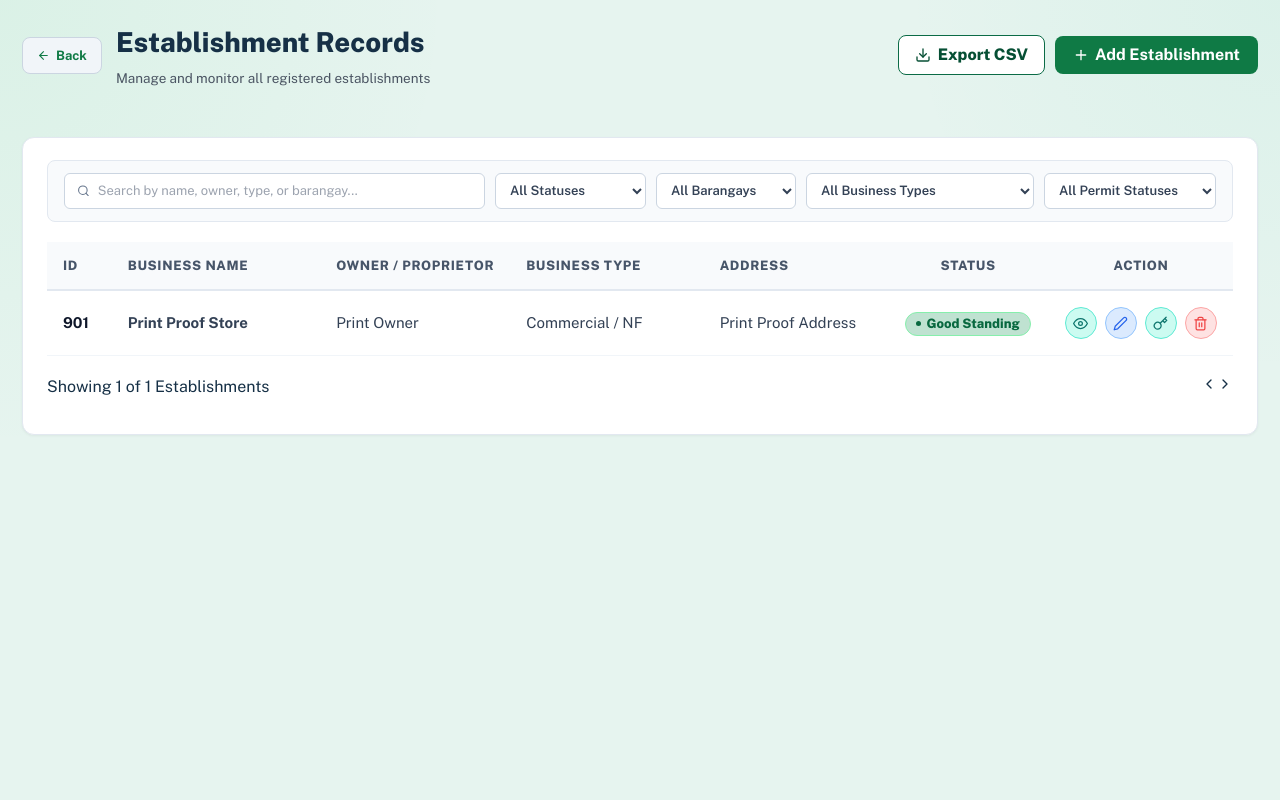
Test: uses the same missing-number text when has_permit is false
Click the button titled "View establishment": (1081, 323) 1065,307 -> 1097,339
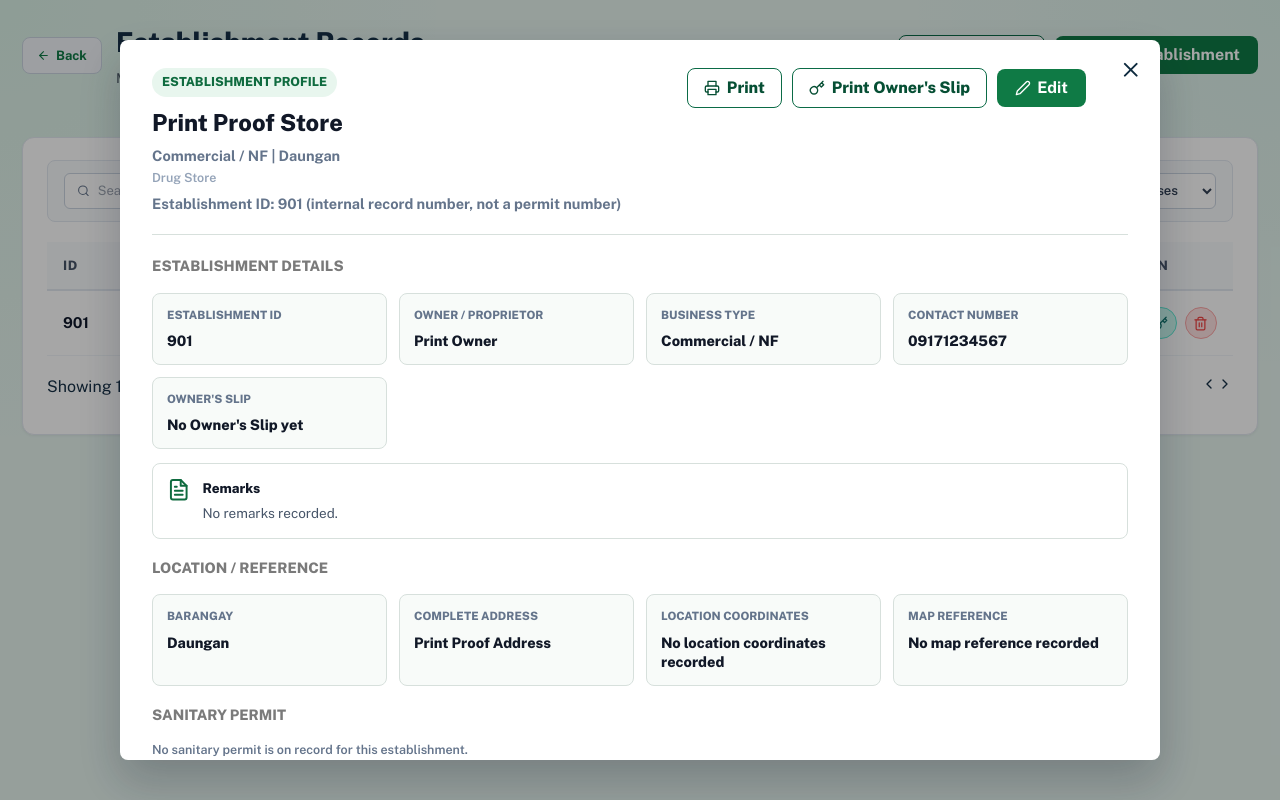
Click the button "Print": (734, 88) 687,68 -> 782,108
(page scrolled)
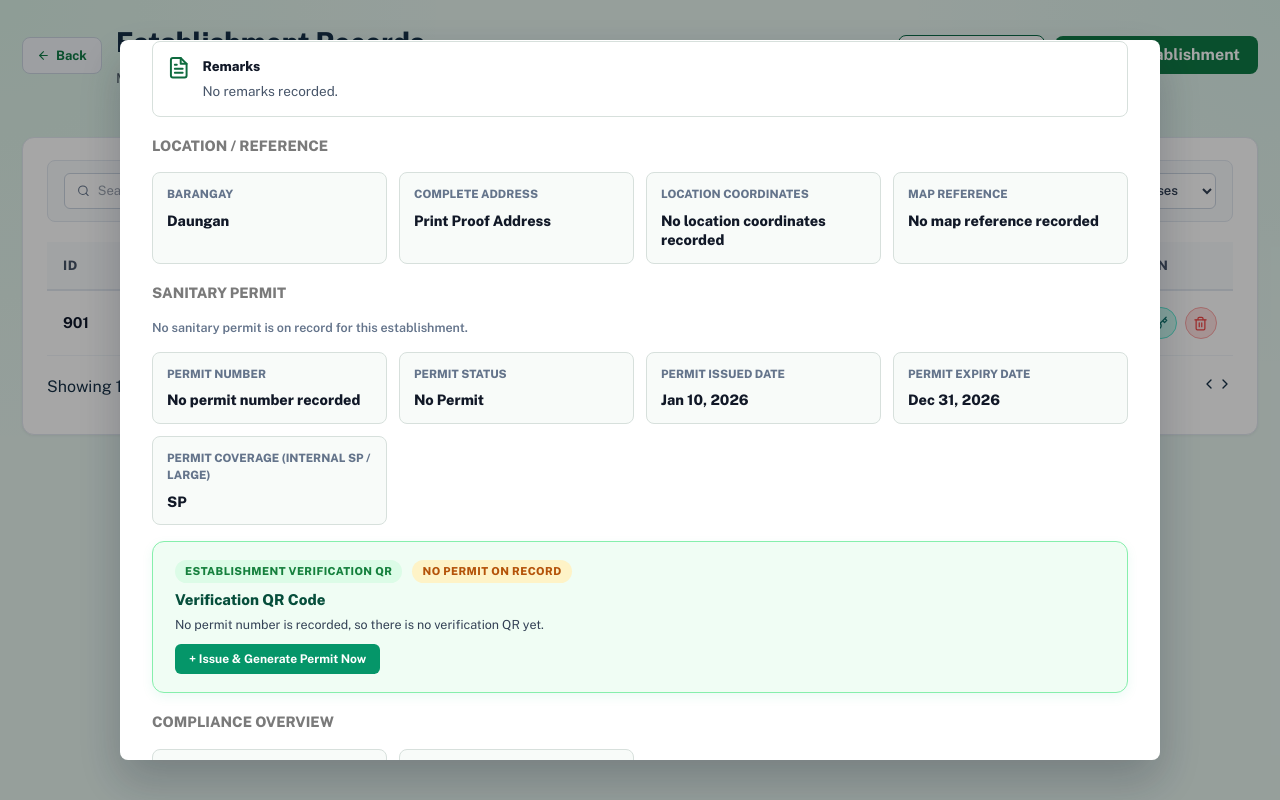
Expected: the text "No permit number recorded" is shown, 167,390 -> 372,410
